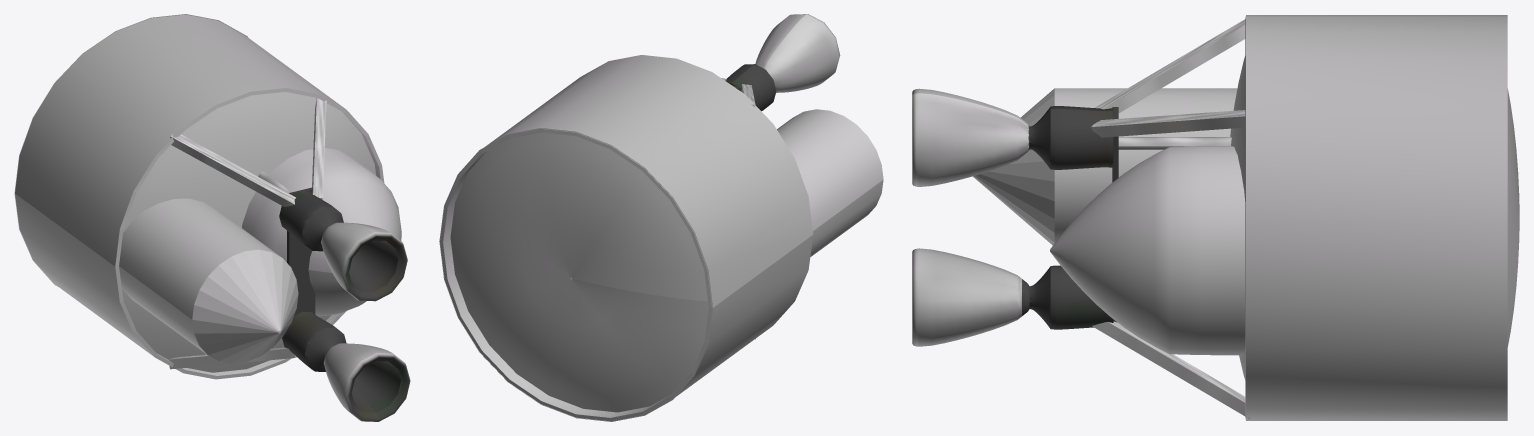
File: transtage.obj
3 renders of one model, left to right at view 1: azimuth 30°, elevation 25°; view 2: azimuth 150°, elevation 25°; view 3: azimuth 270°, elevation 25°, orthographic. The views are drawn at different scales.
Parts seen in each view (by area): view 1: group8, group1, group6, group0, group3, group5, group12, group9, group13, group11; view 2: group7, group8, group1, group5; view 3: group8, group0, group5, group3, group1, group12, group10, group13, group7, group4, group6.
Boxes of the visible parts, x1,y1,x2,y2 form: group8: (14,14,384,379); group1: (119,198,298,363); group6: (122,92,375,372); group0: (242,148,401,316); group3: (282,312,410,421); group5: (279,190,407,301); group12: (170,134,295,206); group9: (287,187,315,315); group13: (312,98,326,199); group11: (168,347,296,369); group7: (450,132,708,412); group8: (439,55,813,421); group1: (777,109,883,256); group5: (725,14,840,111); group8: (1245,15,1507,420); group0: (1050,146,1245,355); group5: (912,88,1113,186); group3: (912,248,1113,346); group1: (973,88,1237,245); group12: (1095,19,1245,112); group10: (1092,321,1249,418); group13: (1091,110,1245,137); group7: (1507,88,1519,346); group4: (1118,137,1231,149); group6: (1230,56,1245,379).
Bounding box in the file's own units: 3.17 × 3.17 × 4.7.
Materials: 3 (3 with a texture image).
